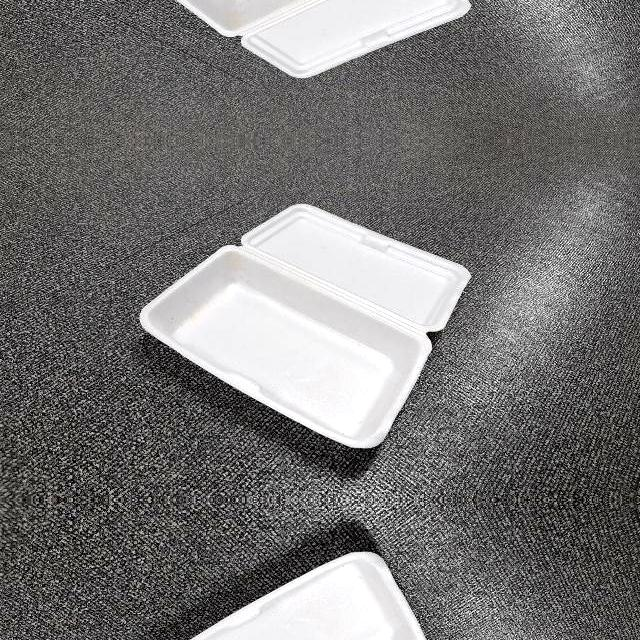Styrofoam: (140, 202, 472, 450), (140, 203, 471, 448), (140, 548, 472, 640), (140, 0, 472, 77), (178, 0, 471, 77), (188, 550, 427, 640)
